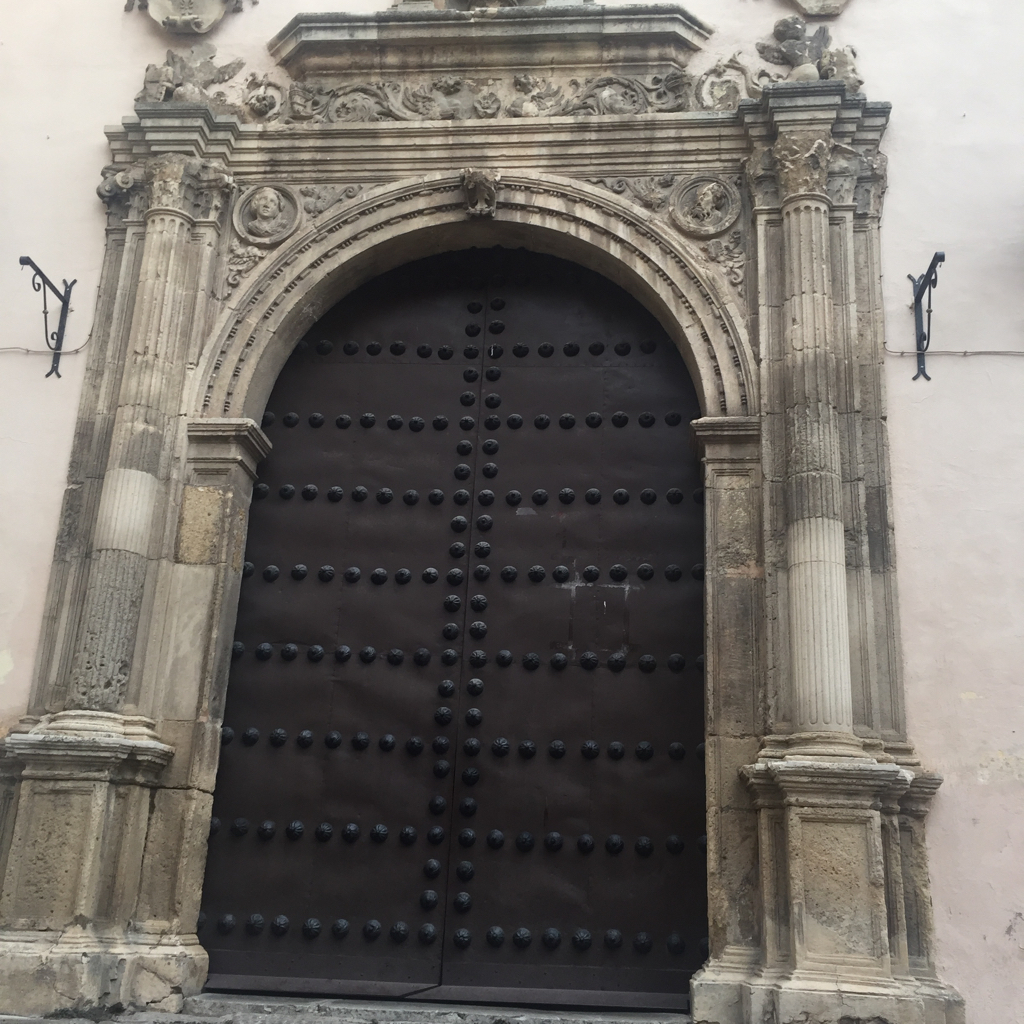arco-medio-punto: (201, 194, 736, 516)
